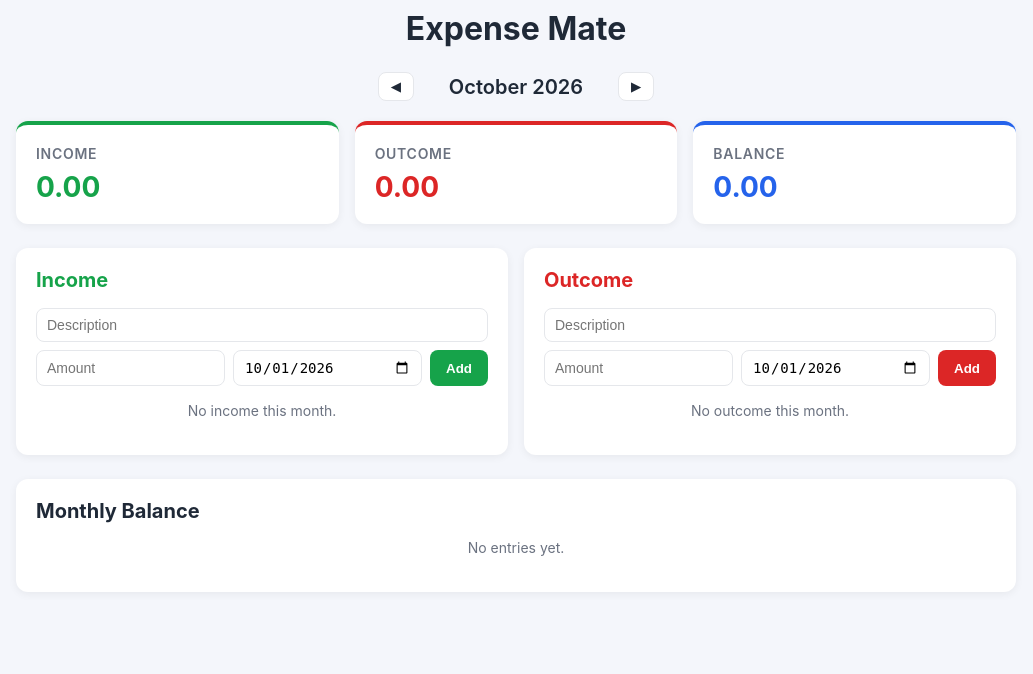
adds income and outcome and updates balance
The image size is (1033, 674).
In the 1st field with placeholder "Description": (262, 325) [36,308,488,342], type "Salary"
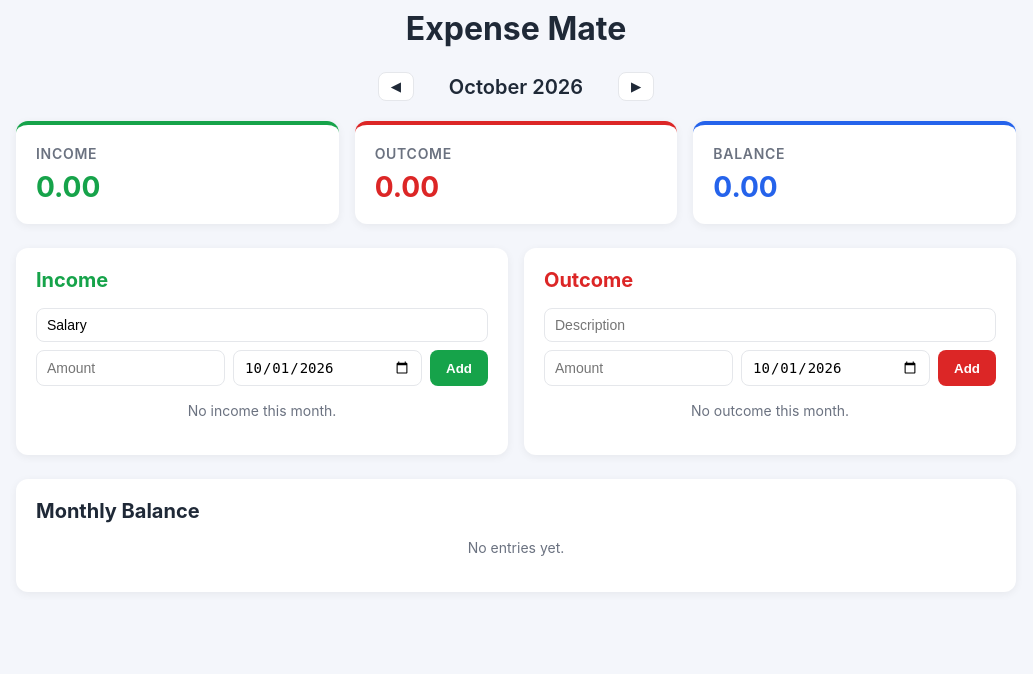
In the 1st number field with placeholder "Amount": (130, 368) [36,350,225,386], type "1000"
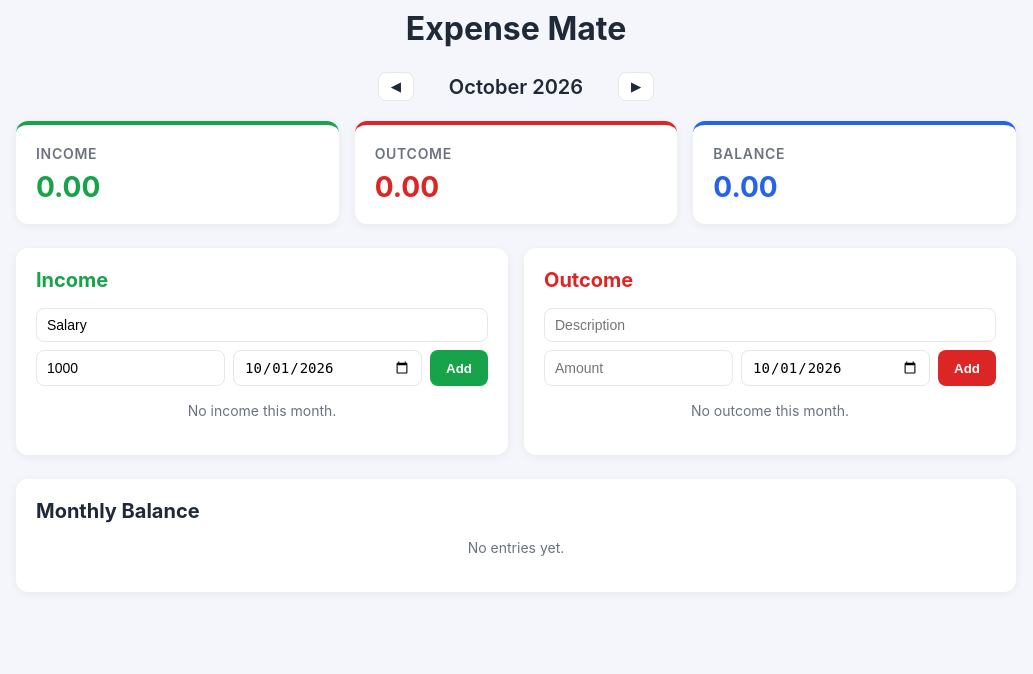
Click the 1st button "Add": (459, 368) [430,350,488,386]
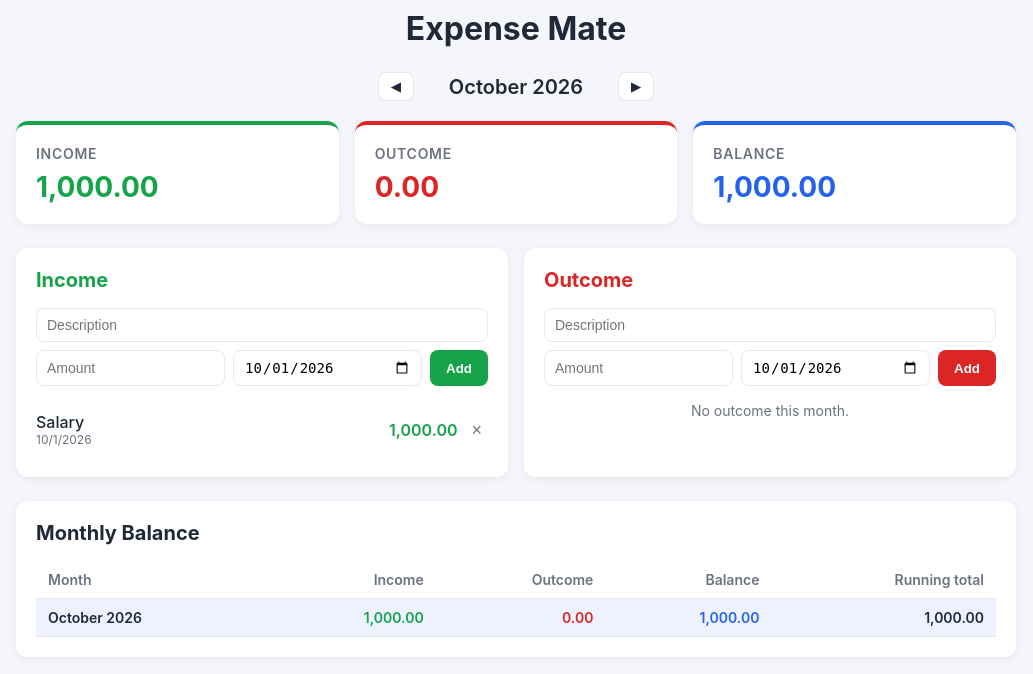
In the 2nd field with placeholder "Description": (770, 325) [544,308,996,342], type "Rent"
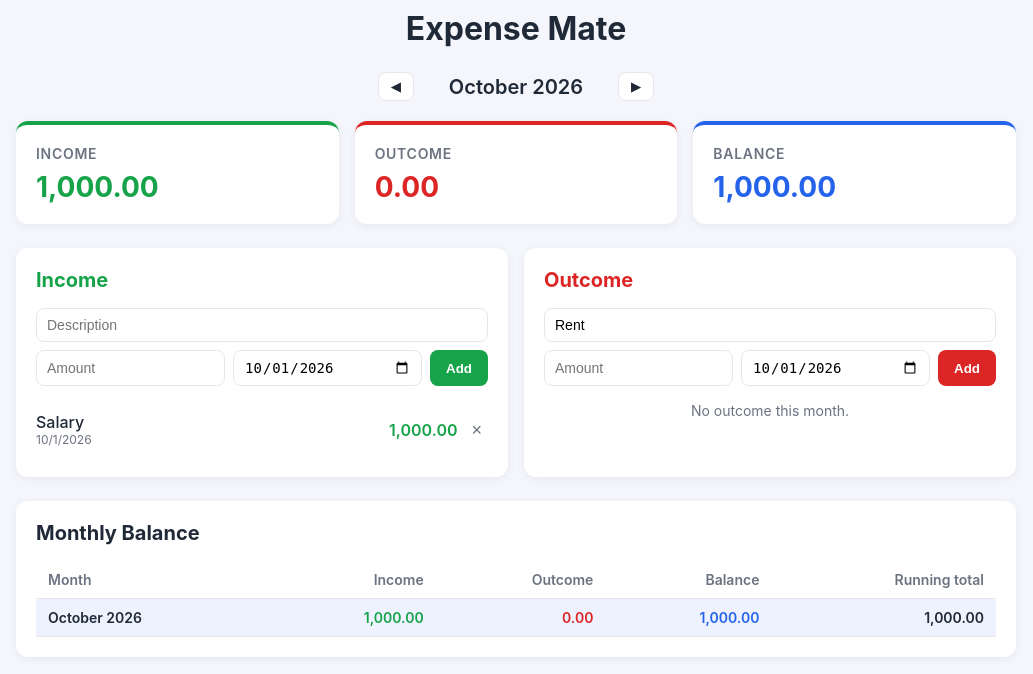
In the 2nd number field with placeholder "Amount": (638, 368) [544,350,733,386], type "400"
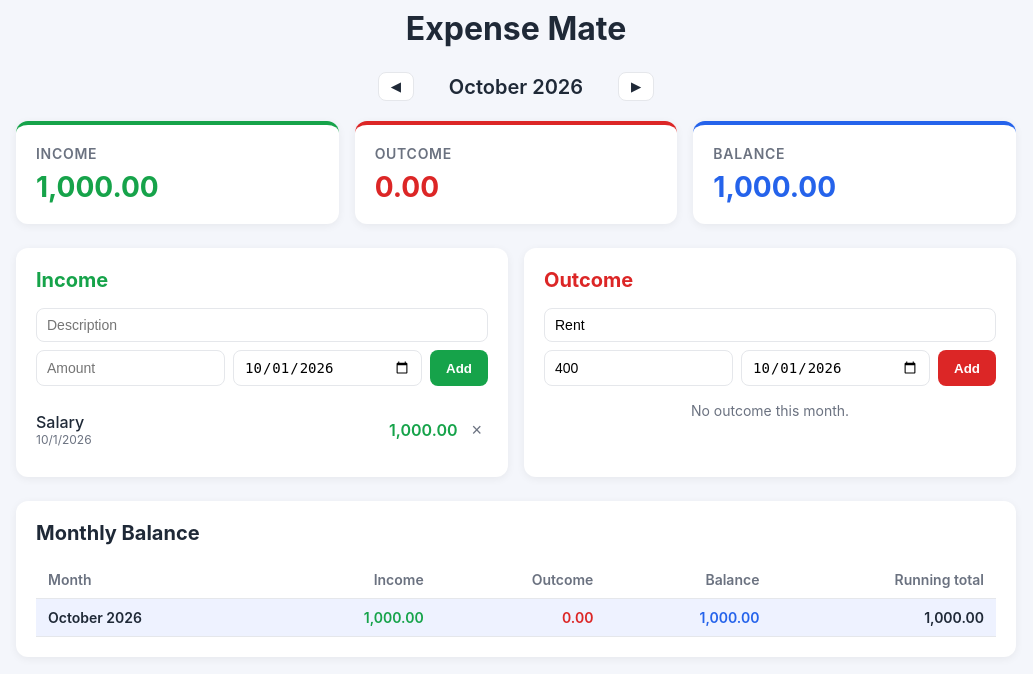
Click the 2nd button "Add": (967, 368) [938,350,996,386]
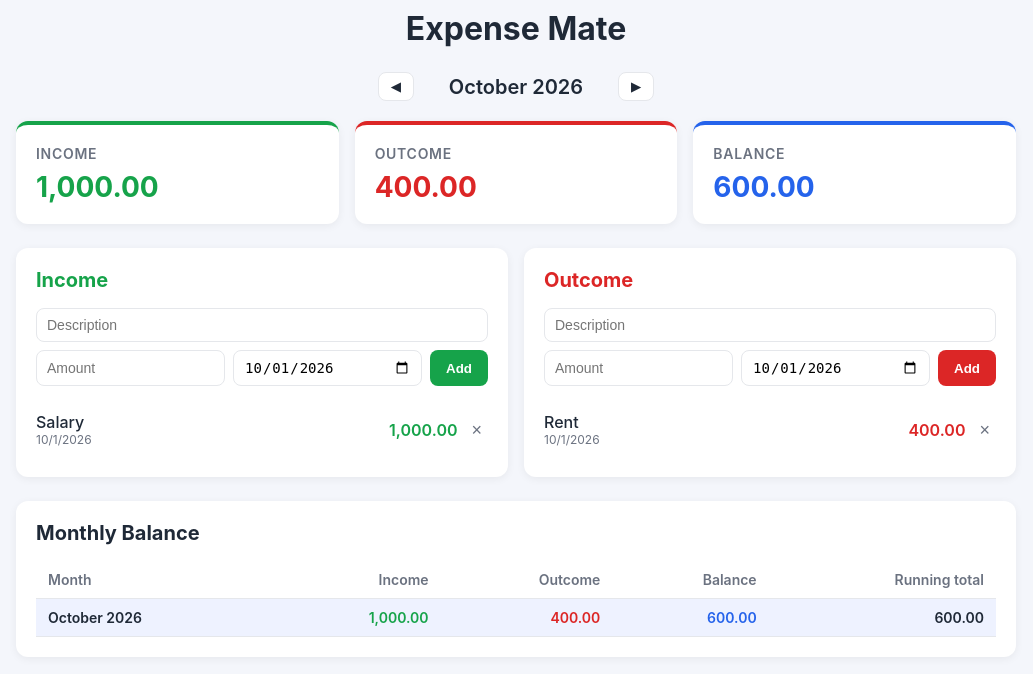
Check: the text "Salary" is shown, box [36,412,92,432]
Check: the text "Rent" is shown, box [544,412,579,432]
Check: the text "600.00" is shown, box [713,170,815,204]
